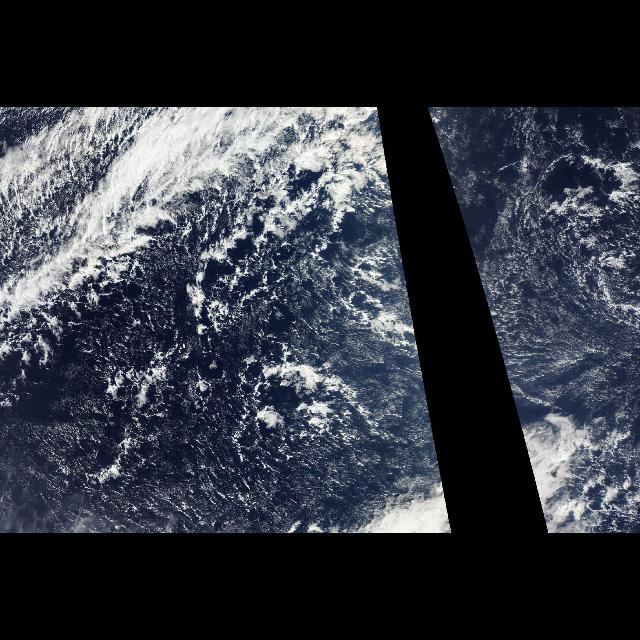Fish: (2, 110, 400, 322)
Gravel: (1, 108, 453, 532)
Sugar: (6, 332, 422, 490), (490, 107, 640, 417)
